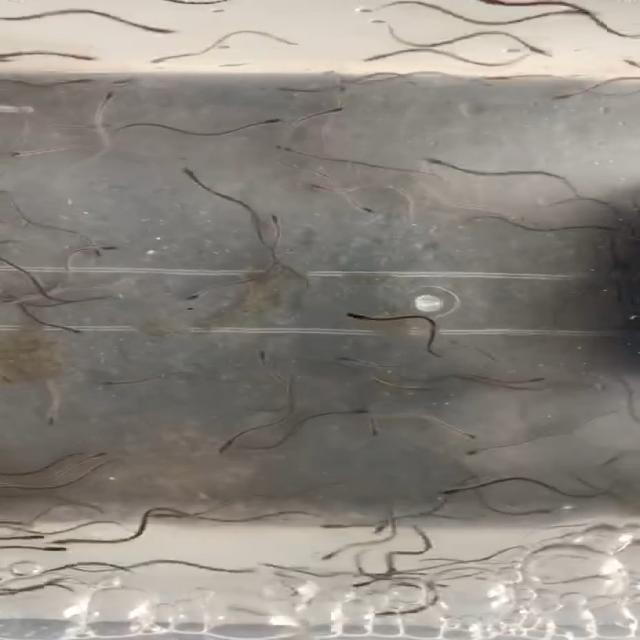active_glass_eel: (134, 51, 186, 70), (174, 160, 208, 186), (476, 70, 527, 86), (453, 427, 496, 444), (417, 149, 455, 168), (208, 432, 238, 456), (396, 378, 450, 391), (337, 310, 387, 324), (350, 574, 390, 591), (26, 541, 76, 554), (63, 76, 117, 88), (521, 42, 556, 60), (238, 561, 283, 575), (266, 208, 294, 230), (36, 406, 64, 428), (73, 450, 119, 463), (92, 88, 123, 107), (59, 50, 100, 64), (140, 27, 192, 38), (344, 198, 377, 215), (466, 443, 508, 456), (188, 284, 218, 302), (267, 83, 316, 94), (0, 530, 49, 541), (359, 419, 386, 438), (316, 103, 352, 117), (544, 88, 575, 104), (316, 519, 354, 532), (44, 534, 85, 546), (507, 376, 556, 386), (437, 485, 480, 496), (365, 520, 396, 535), (270, 144, 312, 155), (6, 146, 39, 160), (317, 548, 350, 562), (521, 506, 556, 519), (253, 345, 276, 364), (82, 241, 125, 251), (62, 322, 92, 336), (86, 238, 105, 260), (250, 116, 288, 126), (301, 183, 332, 195), (327, 410, 372, 418), (332, 357, 370, 366), (358, 55, 388, 65), (473, 0, 514, 7)
